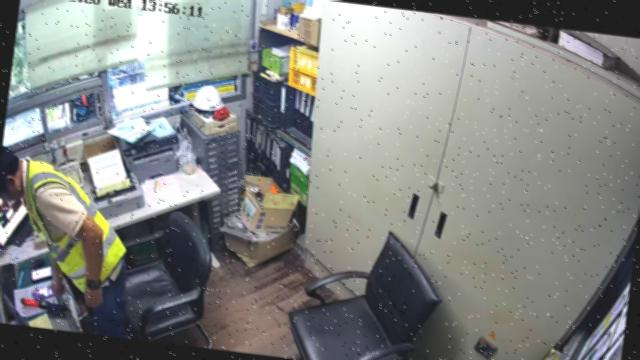Head: (0, 146, 26, 201)
People: (0, 158, 127, 337)
Phone: (30, 267, 53, 282), (29, 287, 54, 300)
